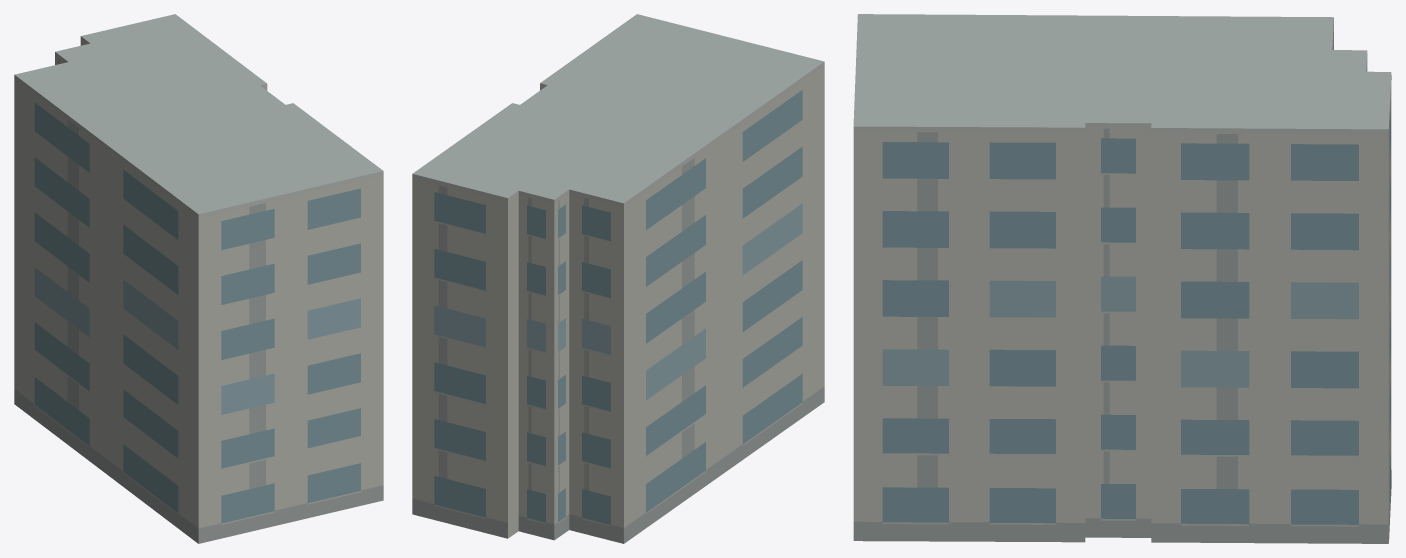
The model's file is survey-upis-32500709.glb.
3 renders of one model, left to right at view 1: azimuth 30°, elevation 25°; view 2: azimuth 150°, elevation 25°; view 3: azimuth 270°, elevation 25°, orthographic. The views are drawn at different scales.
Parts seen in each view (by area): view 1: survey-upis-32500709.tmp; view 2: survey-upis-32500709.tmp; view 3: survey-upis-32500709.tmp.
Boxes of the visible parts, left/top/right/bottom form: survey-upis-32500709.tmp: left=14, top=14, right=383, bottom=543; survey-upis-32500709.tmp: left=412, top=14, right=824, bottom=543; survey-upis-32500709.tmp: left=853, top=14, right=1391, bottom=543.
Bounding box in the file's own units: 10.93 × 18.3 × 21.53.
